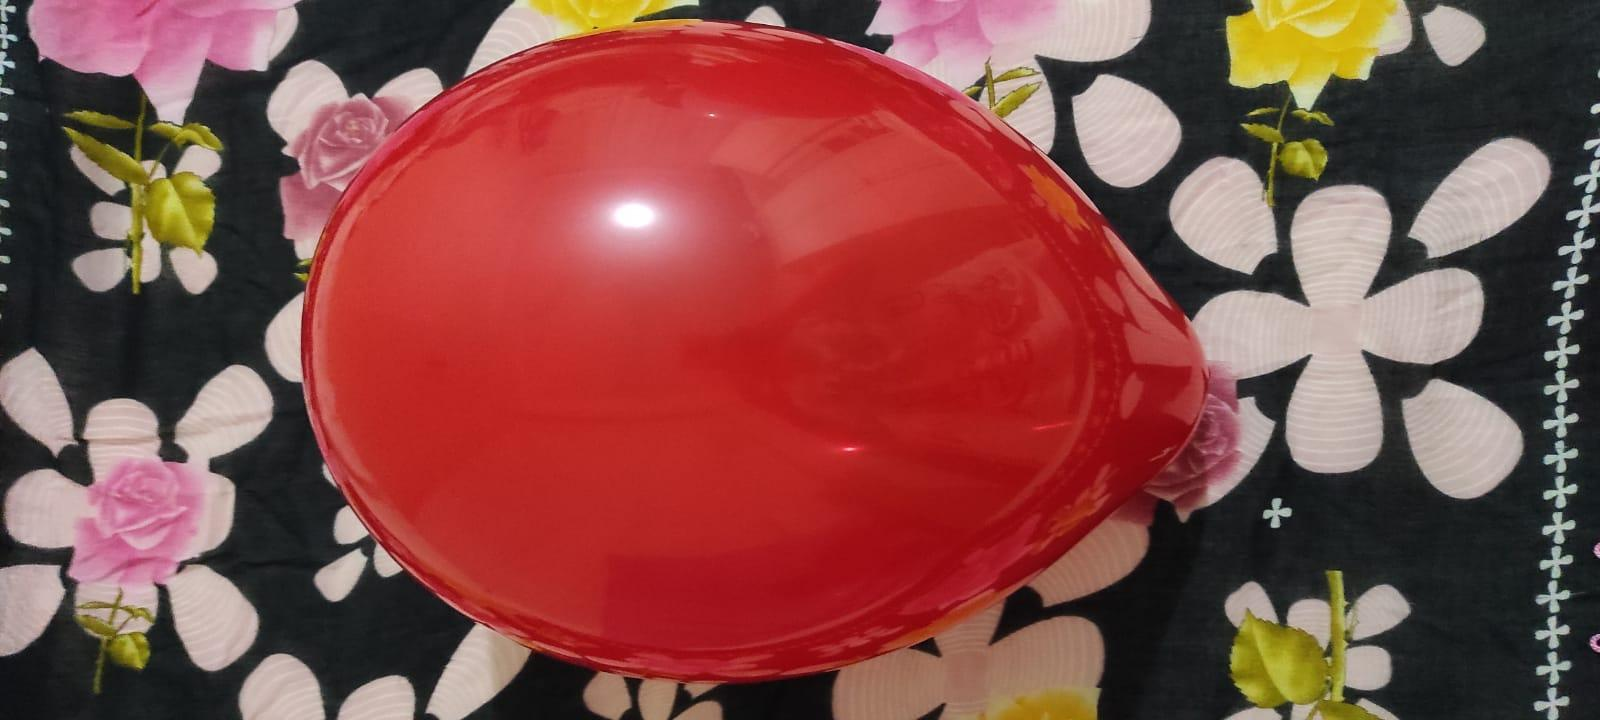red: (297, 20, 1218, 687)
